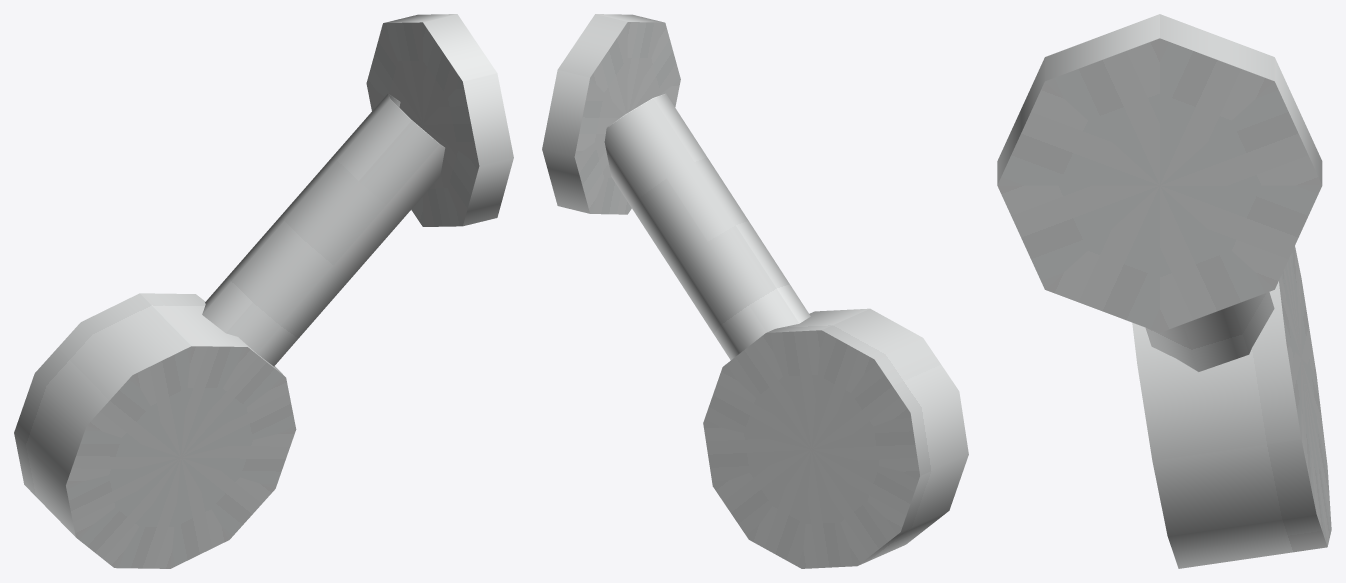
Rendered from trusssignalarm_stub_115.obj.
The picture shows the model from 3 angles, left to right: view 1: azimuth 30°, elevation 25°; view 2: azimuth 150°, elevation 25°; view 3: azimuth 270°, elevation 25°; orthographic projection. The views are drawn at different scales.
Visible parts, largest first — view 1: trusssignalarm_stub_115; view 2: trusssignalarm_stub_115; view 3: trusssignalarm_stub_115.
Boxes of the visible parts, x1,y1,x2,y2 form: trusssignalarm_stub_115: (14,14,513,568); trusssignalarm_stub_115: (542,14,968,568); trusssignalarm_stub_115: (997,14,1331,568).
Bounding box in the file's own units: 0.7056 × 0.8425 × 0.36.
